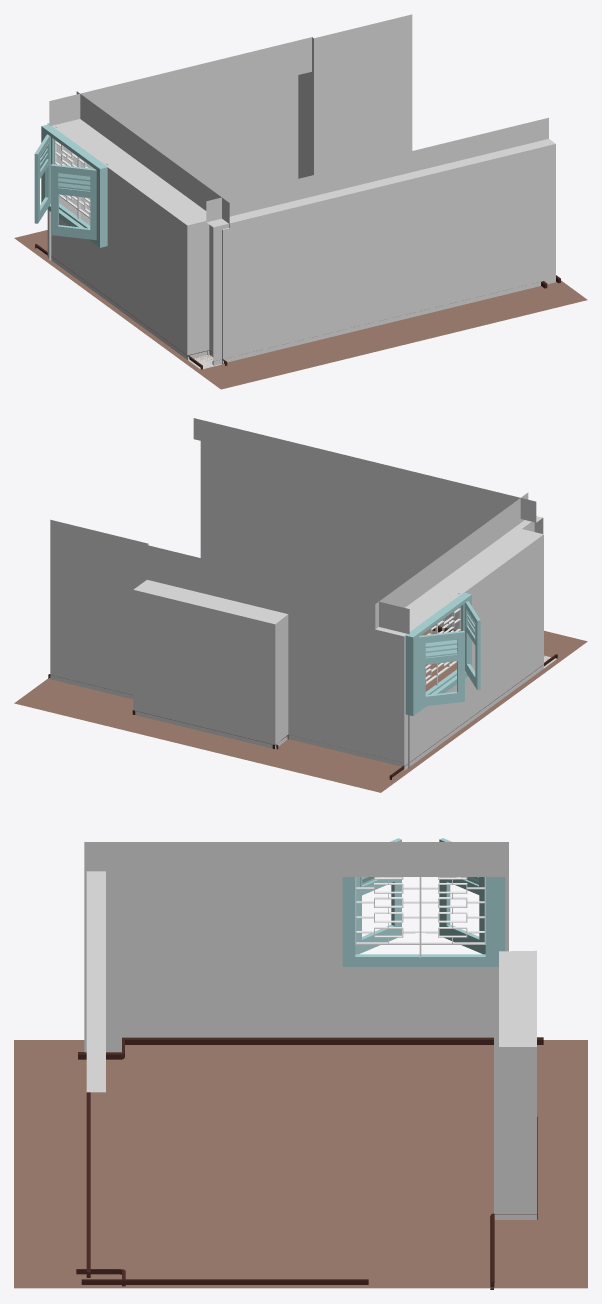
File: empty_room-transformed.glb
3 views of the same model, one above another, from view 1: azimuth 30°, elevation 25°; view 2: azimuth 150°, elevation 25°; view 3: azimuth 270°, elevation 25° (orthographic). The views are drawn at different scales.
Visible parts, largest first — view 1: wall_l, wall_r, wall_b, wooden_floor, windows_frame, windows.001, windows, Plane; view 2: wall_r, wall_l, wall_b, wooden_floor, windows, windows_frame, windows.001, Plane; view 3: wooden_floor, wall_b, wall_r, windows_frame, wall_l, Plane, wooden_cover_b_3, wooden_cover_f, windows, windows.001, wooden_cover_r_3.
Boxes of the visible parts, x1,y1,x2,y2 form: wall_l: (206,117,555,365); wall_r: (49,14,412,260); wall_b: (47,91,229,369); wooden_floor: (14,230,587,389); windows_frame: (41,124,107,247); windows.001: (51,164,96,240); windows: (34,134,50,223); Plane: (54,140,90,218); wall_r: (50,519,409,768); wall_l: (193,418,543,630); wall_b: (375,492,556,770); wooden_floor: (14,630,587,792); windows: (418,630,464,706); windows_frame: (405,592,471,715); windows.001: (465,601,480,690); Plane: (425,606,460,685); wooden_floor: (14,1040,587,1288); wall_b: (84,842,508,1052); wall_r: (494,950,536,1219); windows_frame: (342,877,505,966); wall_l: (86,871,105,1092); Plane: (355,877,485,957); wooden_cover_b_3: (122,1037,543,1044); wooden_cover_f: (81,1279,368,1284); windows: (439,838,485,954); windows.001: (355,838,401,954); wooden_cover_r_3: (86,1092,90,1277).
Size of the model in its own units: 6.21 by 2.42 by 5.58.
